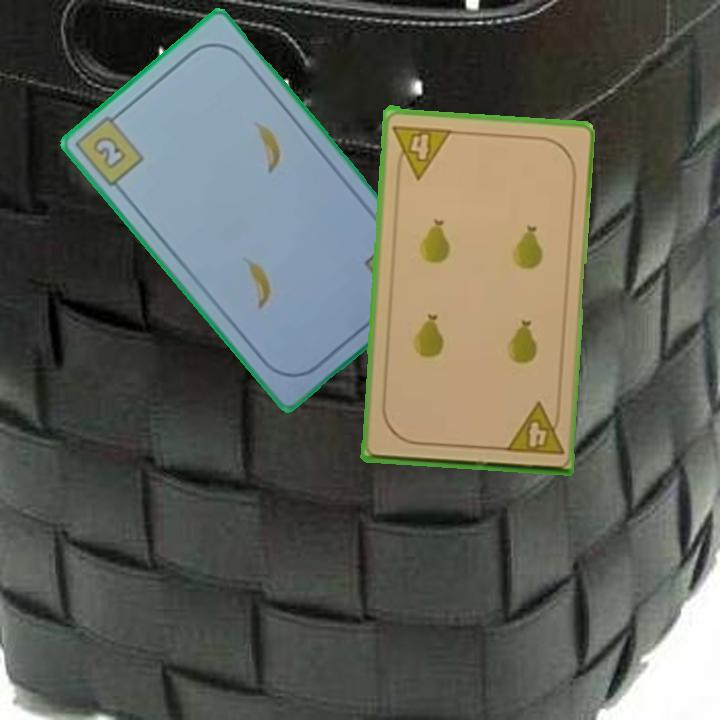2b: (72, 106, 147, 190)
4p: (390, 121, 455, 180), (501, 399, 566, 458)
